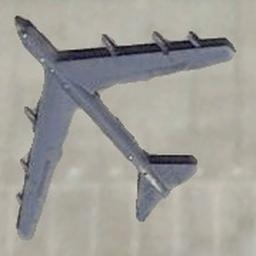Airplane: (12, 14, 236, 240)
